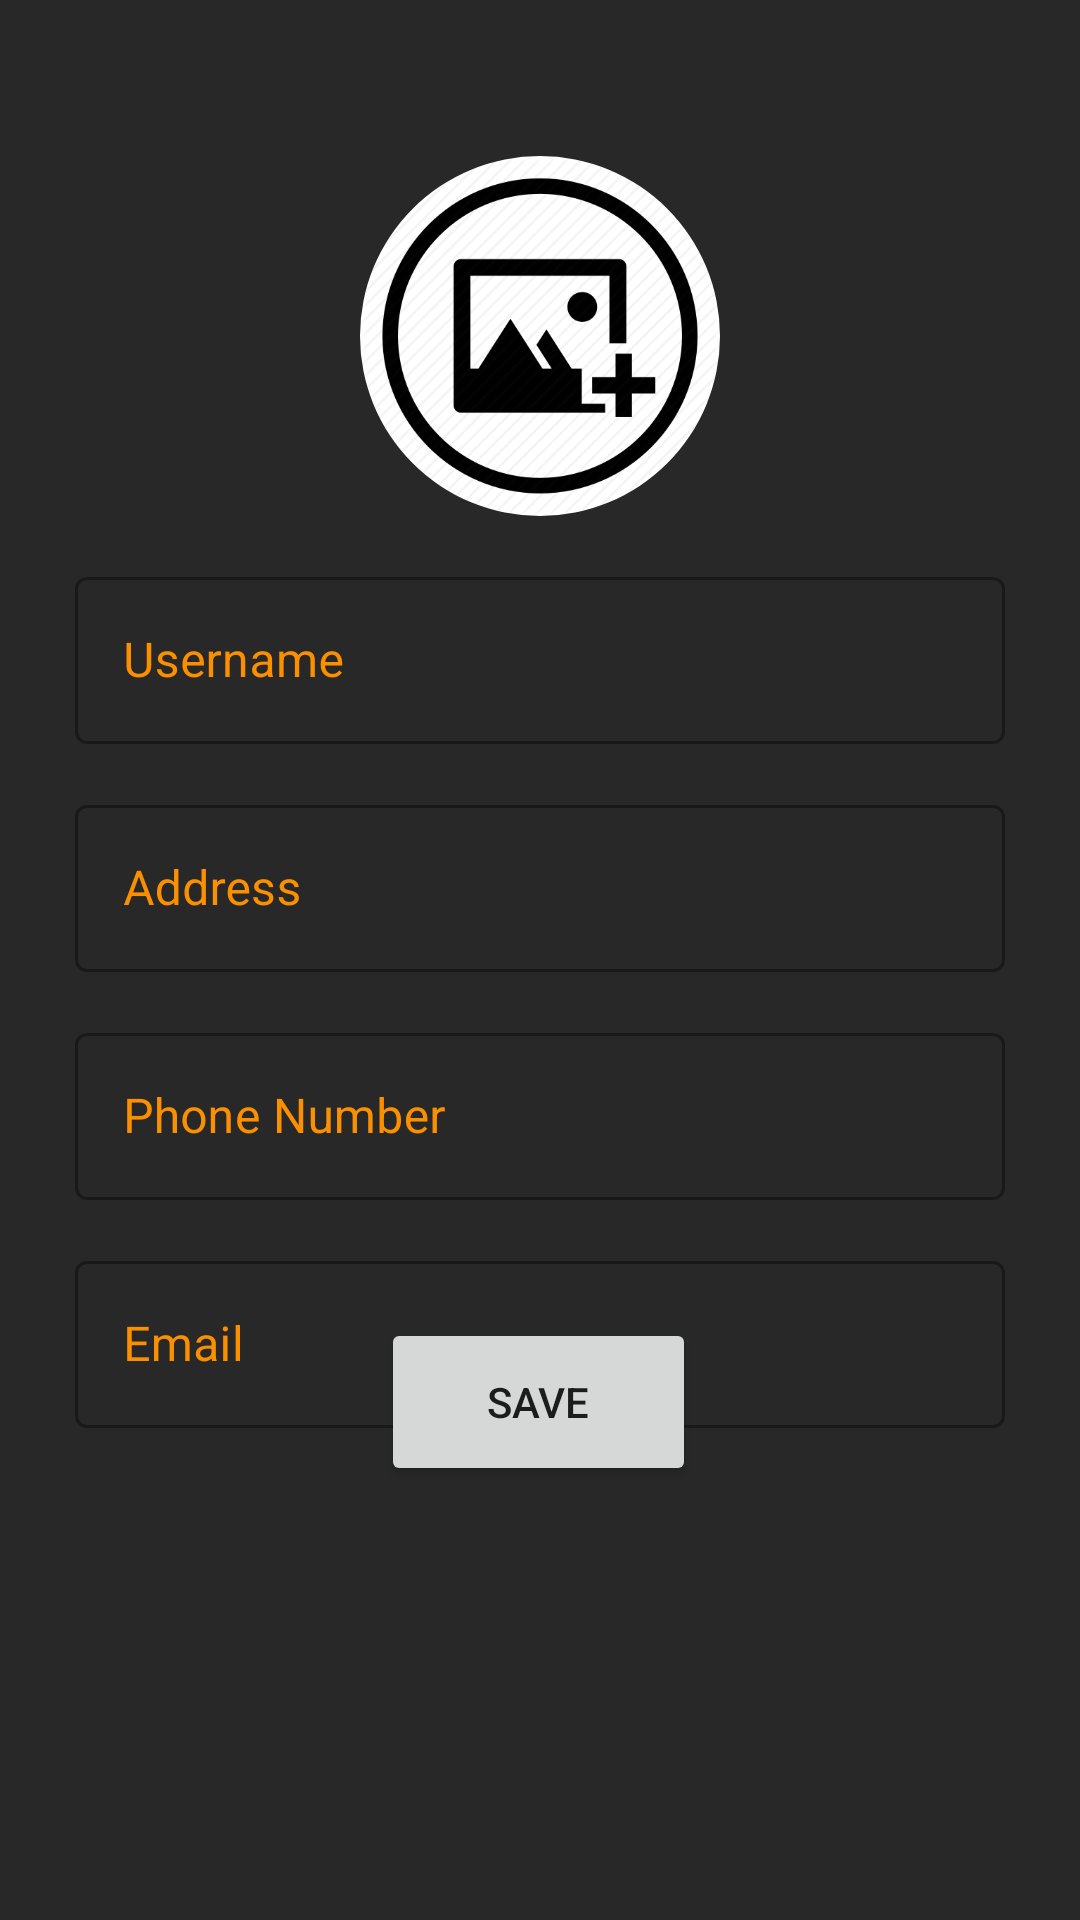

Locate icon controls on the screen. Image size 1080×1920, boxes as (x1, y1, x2, y2).
profile picture: (360, 156, 720, 516)
